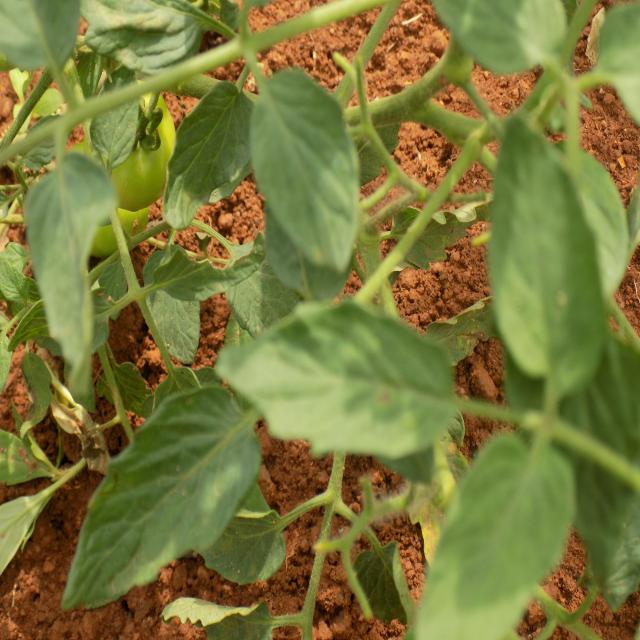tomato_healthy: (60, 381, 256, 600), (209, 300, 453, 454), (484, 103, 608, 406), (250, 60, 359, 272), (156, 70, 252, 227)
